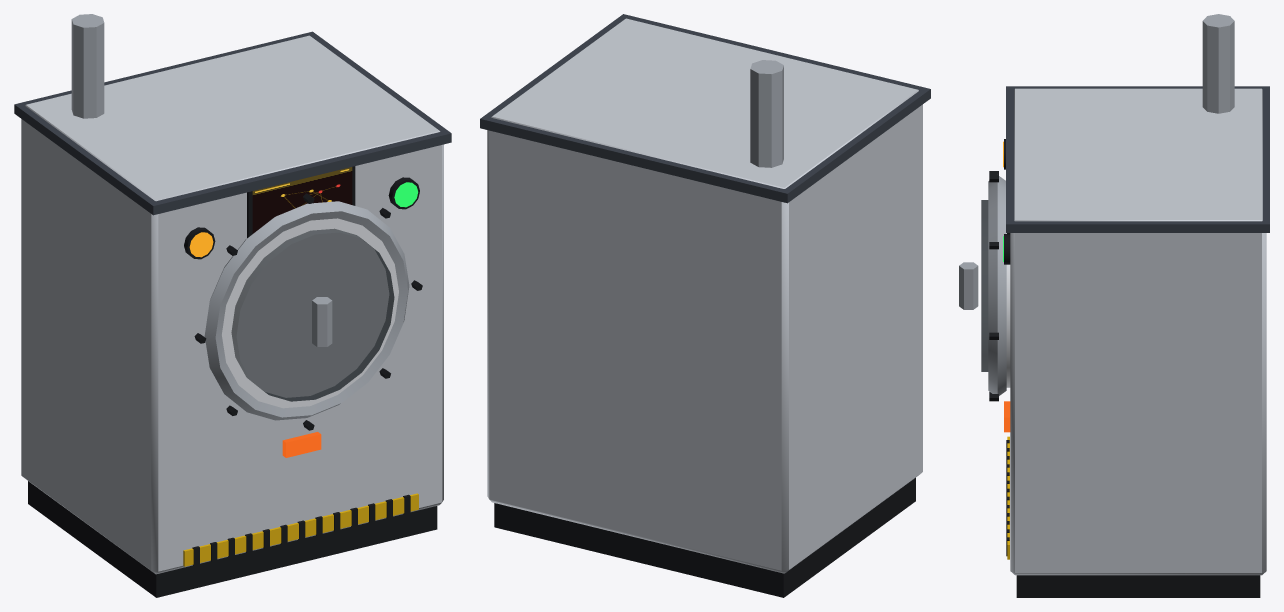
File: medcabinet_sterilizer_autoclave.glb
3 renders of one model, left to right at view 1: azimuth 30°, elevation 25°; view 2: azimuth 150°, elevation 25°; view 3: azimuth 270°, elevation 25°, orthographic. The views are drawn at different scales.
Parts seen in each view (by area): view 1: medcabinet_sterilizer_autoclave; view 2: medcabinet_sterilizer_autoclave; view 3: medcabinet_sterilizer_autoclave.
Part boxes in pixels (x1=…): medcabinet_sterilizer_autoclave: x1=14, y1=14, x2=451, y2=597; medcabinet_sterilizer_autoclave: x1=480, y1=14, x2=930, y2=597; medcabinet_sterilizer_autoclave: x1=959, y1=14, x2=1269, y2=597.
Bounding box in the file's own units: 1.02 × 1.6 × 0.97.
Materials: 11 (1 with a texture image).
